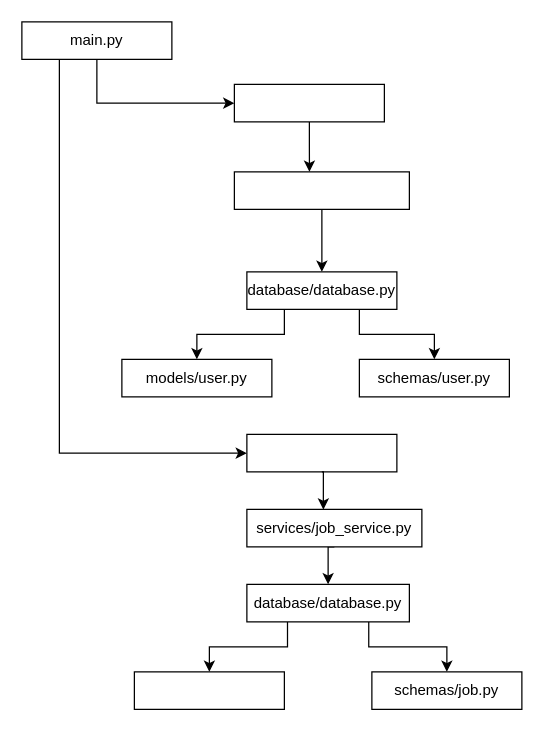
Image size: 544x741. Some labels were removed from this diagram. Each missing label, with the centre of its shape:
"models/job.py" goes at point 208,690.
"routes/auth.py" goes at point 308,102.
"routes/job.py" goes at point 321,452.
"services/auth_service.py" goes at point 321,190.
